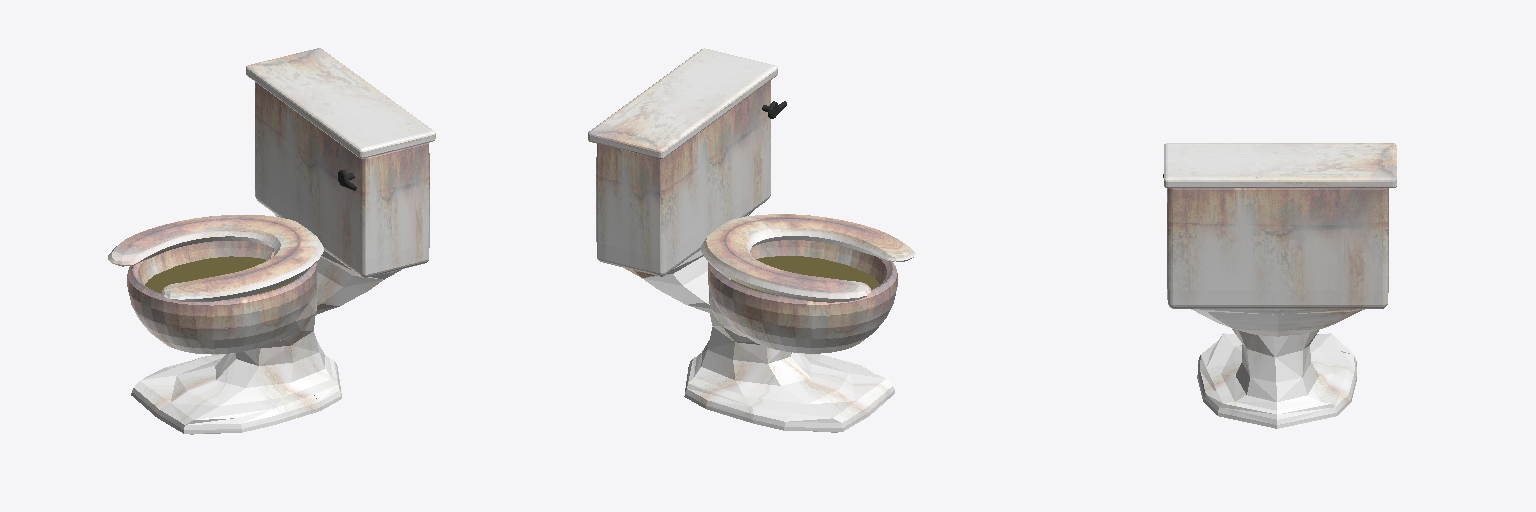
3 views of the same model, side by side, from view 1: azimuth 30°, elevation 25°; view 2: azimuth 150°, elevation 25°; view 3: azimuth 270°, elevation 25° (orthographic).
Visible parts, largest first — view 1: Mesh.003_Mesh.021_Mesh.001_Sph, Mesh.004_Mesh.020_Mesh.005_Cha, Mesh.005_Mesh.017_Mesh.006_Cha, Mesh.001_Mesh.018_Mesh.007_Tub, Mesh.006_Mesh.024_Mesh.002_Cyl; view 2: Mesh.003_Mesh.021_Mesh.001_Sph, Mesh.004_Mesh.020_Mesh.005_Cha, Mesh.005_Mesh.017_Mesh.006_Cha, Mesh.001_Mesh.018_Mesh.007_Tub, Mesh.006_Mesh.024_Mesh.002_Cyl; view 3: Mesh.004_Mesh.020_Mesh.005_Cha, Mesh.003_Mesh.021_Mesh.001_Sph, Mesh.005_Mesh.017_Mesh.006_Cha.
Boxes of the visible parts, <box> form: Mesh.003_Mesh.021_Mesh.001_Sph: <box>127,241,341,434</box>; Mesh.004_Mesh.020_Mesh.005_Cha: <box>255,82,429,314</box>; Mesh.005_Mesh.017_Mesh.006_Cha: <box>246,48,435,158</box>; Mesh.001_Mesh.018_Mesh.007_Tub: <box>108,215,323,301</box>; Mesh.006_Mesh.024_Mesh.002_Cyl: <box>145,256,296,297</box>; Mesh.003_Mesh.021_Mesh.001_Sph: <box>684,240,897,432</box>; Mesh.004_Mesh.020_Mesh.005_Cha: <box>596,80,770,313</box>; Mesh.005_Mesh.017_Mesh.006_Cha: <box>588,48,777,158</box>; Mesh.001_Mesh.018_Mesh.007_Tub: <box>700,214,915,302</box>; Mesh.006_Mesh.024_Mesh.002_Cyl: <box>731,256,879,295</box>; Mesh.004_Mesh.020_Mesh.005_Cha: <box>1167,188,1388,336</box>; Mesh.003_Mesh.021_Mesh.001_Sph: <box>1197,329,1356,428</box>; Mesh.005_Mesh.017_Mesh.006_Cha: <box>1164,143,1396,187</box>.
Bounding box in the file's own units: 0.8669 × 0.9205 × 0.7151.
3 materials, 1 textured.